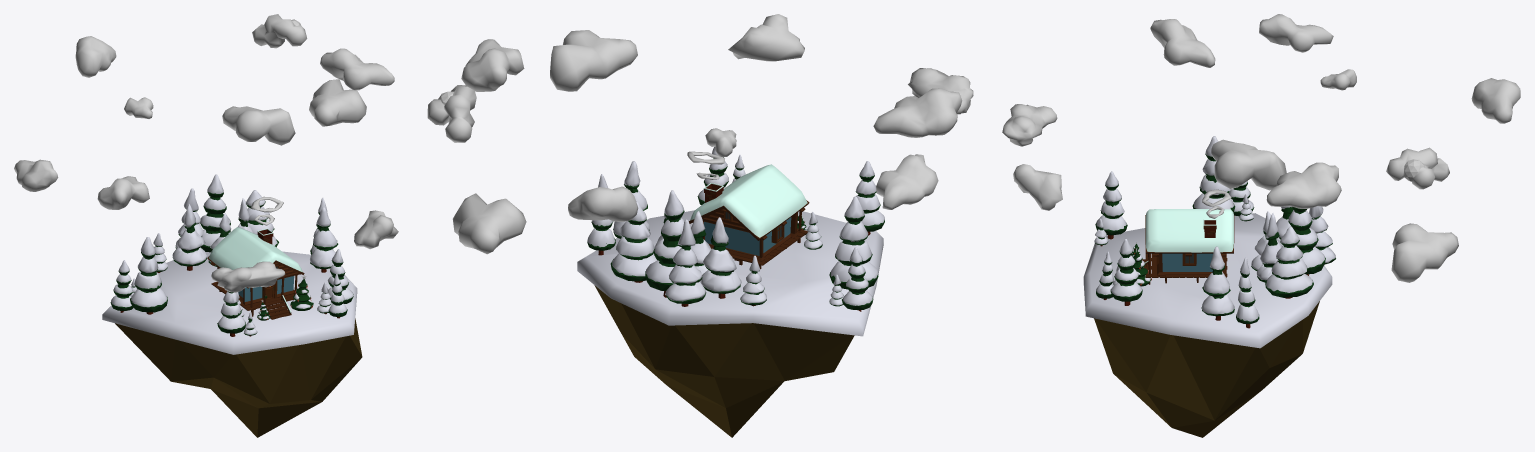
The model's file is house.obj.
3 views of the same model, side by side, from view 1: azimuth 30°, elevation 25°; view 2: azimuth 150°, elevation 25°; view 3: azimuth 270°, elevation 25° (orthographic). The views are drawn at different scales.
Parts seen in each view (by area): view 1: island_Icosphere.001, Cloud.002_Icosphere.090, tree_Cylinder.036, House_Cylinder.057, decor_tree_Cylinder.054, Torus; view 2: island_Icosphere.001, Cloud.002_Icosphere.090, tree_Cylinder.036, House_Cylinder.057; view 3: island_Icosphere.001, Cloud.002_Icosphere.090, tree_Cylinder.036, House_Cylinder.057.
Part boxes in pixels (x1=…): island_Icosphere.001: x1=102, y1=251, x2=362, y2=437; Cloud.002_Icosphere.090: x1=14, y1=14, x2=398, y2=292; tree_Cylinder.036: x1=110, y1=174, x2=353, y2=336; House_Cylinder.057: x1=207, y1=227, x2=304, y2=319; decor_tree_Cylinder.054: x1=257, y1=275, x2=313, y2=320; Torus: x1=251, y1=196, x2=283, y2=225; island_Icosphere.001: x1=577, y1=210, x2=883, y2=437; Cloud.002_Icosphere.090: x1=427, y1=14, x2=973, y2=254; tree_Cylinder.036: x1=587, y1=146, x2=884, y2=311; House_Cylinder.057: x1=689, y1=164, x2=809, y2=268; island_Icosphere.001: x1=1083, y1=213, x2=1332, y2=437; Cloud.002_Icosphere.090: x1=1002, y1=14, x2=1520, y2=282; tree_Cylinder.036: x1=1094, y1=136, x2=1335, y2=328; House_Cylinder.057: x1=1141, y1=209, x2=1234, y2=284.
Bounding box in the file's own units: 3.28 × 2.73 × 3.63.
